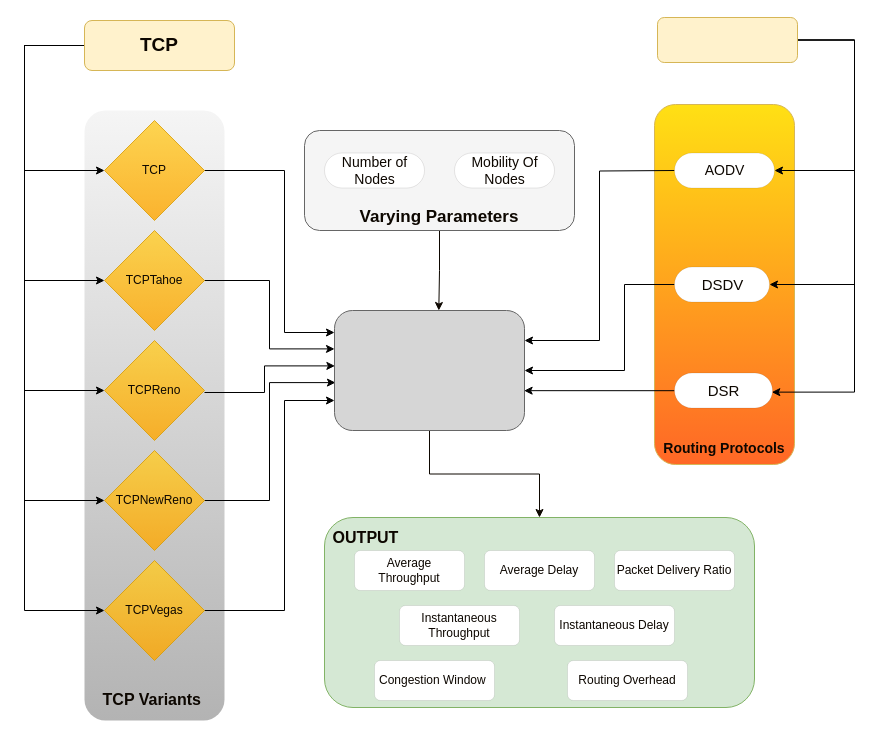
Some shapes in this 880 by 746 pixel diagram are drawn without their labels. The centre of each missing label's shape, as x and y in pixels:
MANET: point 727,39
SIMULATOR: point 429,370
